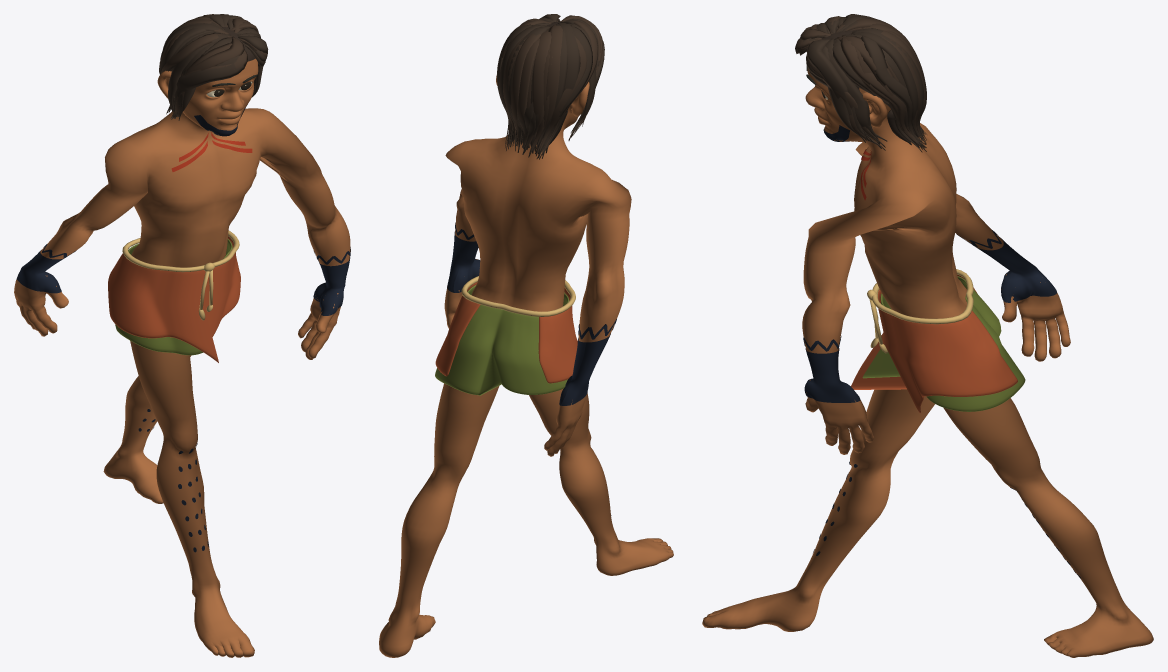
File: homem_04.glb
3 views of the same model, side by side, from view 1: azimuth 30°, elevation 25°; view 2: azimuth 150°, elevation 25°; view 3: azimuth 270°, elevation 25° (orthographic). The views are drawn at different scales.
Parts seen in each view (by area): view 1: homem_04_corpo; view 2: homem_04_corpo; view 3: homem_04_corpo.
Part boxes in pixels (left/top/right/bottom): homem_04_corpo: left=14, top=14, right=350, bottom=657; homem_04_corpo: left=379, top=14, right=673, bottom=657; homem_04_corpo: left=702, top=14, right=1153, bottom=657.
Bounding box in the file's own units: 0.7014 × 1.68 × 1.1.
